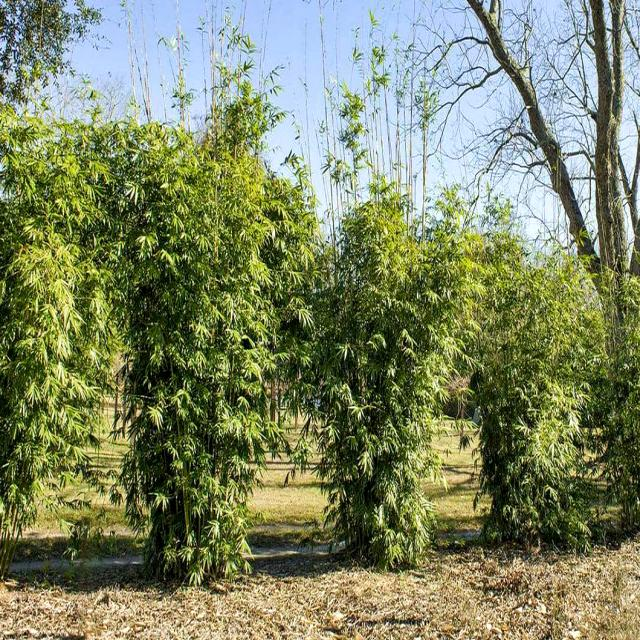Clumping: (97, 99, 276, 598), (312, 153, 440, 580), (460, 211, 596, 576)
